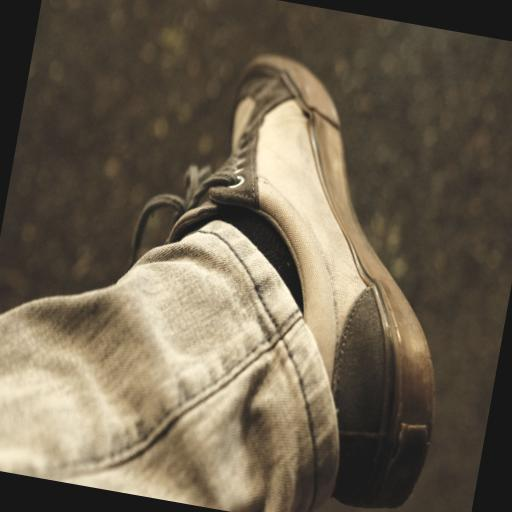shoe: (169, 55, 434, 507)
